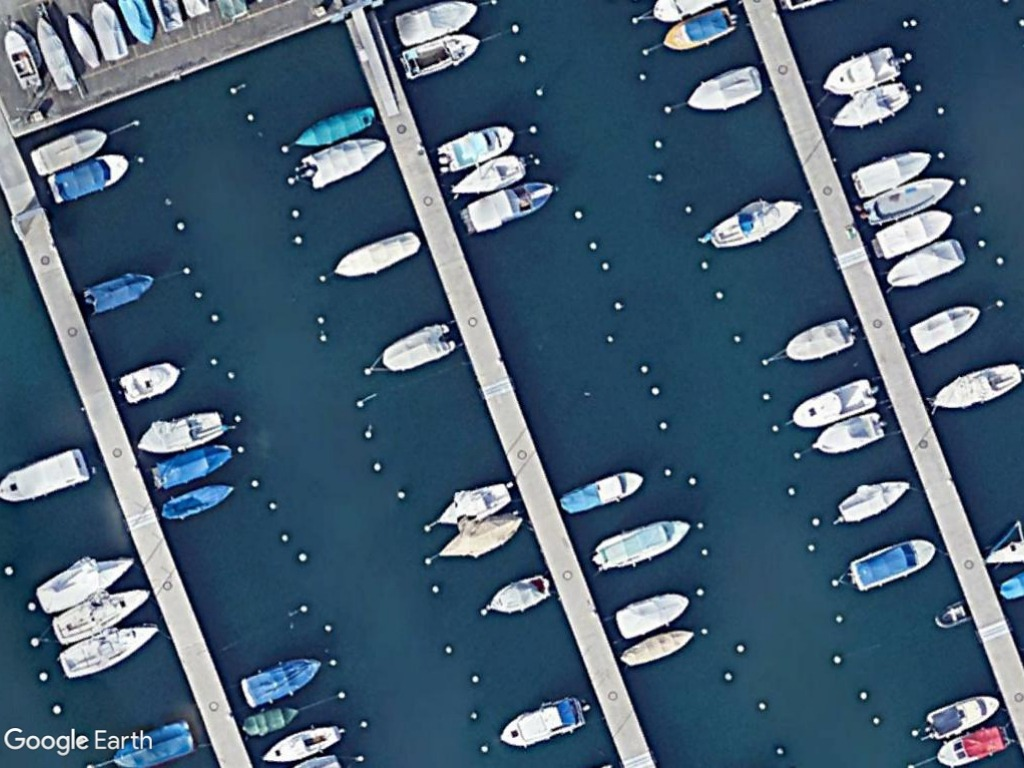boat: (33, 551, 138, 615), (56, 621, 160, 683), (50, 586, 150, 648), (591, 514, 693, 572), (0, 445, 88, 506), (708, 197, 802, 253), (860, 172, 955, 227), (462, 179, 553, 235), (297, 136, 386, 193), (933, 358, 1023, 414), (330, 227, 421, 282), (847, 538, 937, 593), (850, 146, 936, 202), (29, 122, 112, 180), (496, 695, 586, 748), (870, 209, 958, 263), (396, 28, 480, 84), (882, 237, 969, 291), (436, 510, 526, 562), (826, 80, 913, 133), (790, 376, 878, 428), (818, 47, 906, 99), (47, 150, 130, 204), (290, 102, 376, 153), (237, 656, 324, 706), (905, 302, 985, 356), (684, 62, 764, 116), (378, 319, 458, 373), (433, 124, 518, 174), (393, 0, 478, 49), (448, 152, 530, 202), (559, 469, 644, 517), (611, 592, 691, 642), (660, 5, 740, 54), (437, 478, 514, 528), (810, 410, 889, 458), (34, 12, 79, 95), (834, 478, 911, 526), (781, 315, 856, 364), (921, 692, 1000, 737), (259, 723, 344, 764), (82, 268, 154, 316), (936, 725, 1012, 768), (158, 480, 234, 521), (618, 627, 694, 668), (116, 360, 181, 407), (486, 572, 552, 616), (0, 27, 42, 92), (89, 1, 132, 62), (64, 12, 102, 70), (239, 704, 299, 737)
